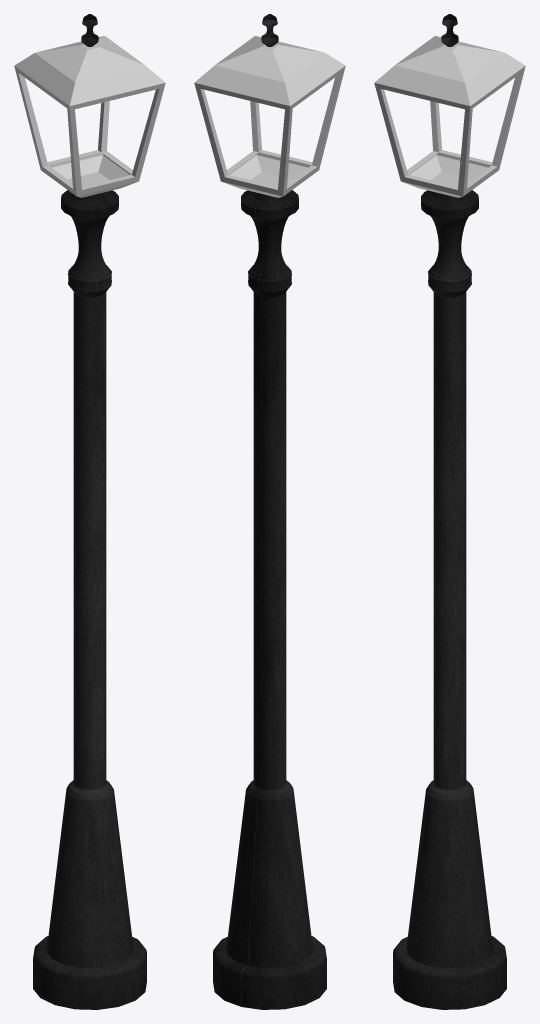
Rendered from lamp.fbx.
3 views of the same model, side by side, from view 1: azimuth 30°, elevation 25°; view 2: azimuth 150°, elevation 25°; view 3: azimuth 330°, elevation 25° (orthographic).
Parts seen in each view (by area): view 1: post, cage; view 2: post, cage; view 3: post, cage.
Part boxes in pixels (left/top/right/bottom): post: left=33, top=14, right=146, bottom=1009; cage: left=14, top=36, right=165, bottom=197; post: left=213, top=14, right=326, bottom=1009; cage: left=194, top=36, right=345, bottom=197; post: left=393, top=14, right=506, bottom=1009; cage: left=374, top=36, right=525, bottom=197.
Bounding box in the file's own units: 0.6301 × 5.89 × 0.6301.
